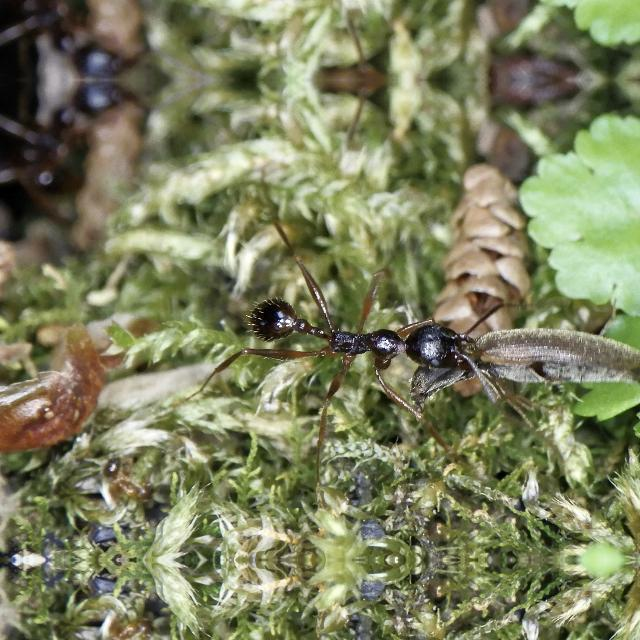Apheanogaster: (225, 280, 501, 410), (0, 78, 148, 215), (0, 0, 148, 80)
